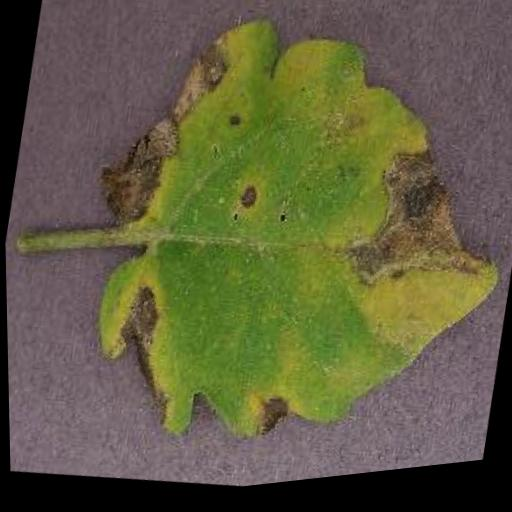Septoria: (50, 0, 512, 498)
